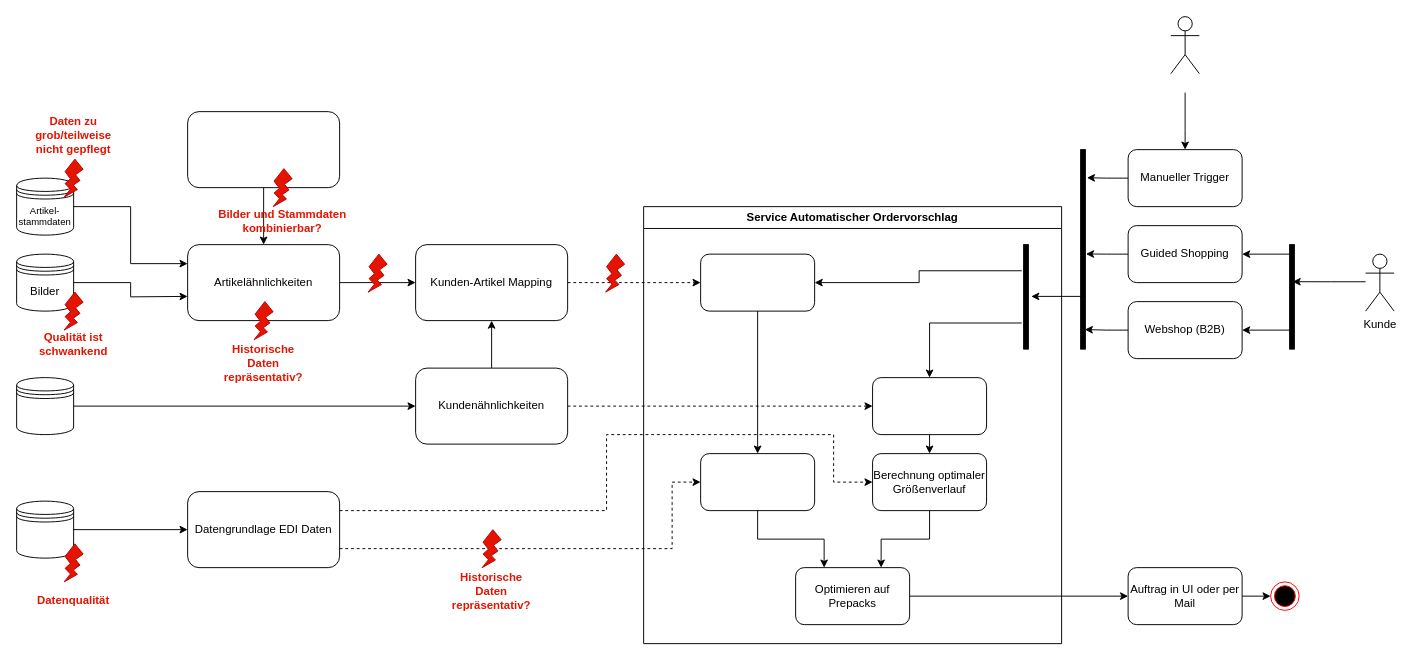
The diagram is 1413 pixels wide and 660 high, and some of its shapes have lost their labels. The shapes that lost their labels are listed below. From the top down, each one's box as (x1, y1, x2, y2) in pixels, then its label:
(1170, 16, 1199, 74): Vertrieb
(187, 111, 340, 188): Anbindung externer Datenquellen
(700, 253, 815, 311): Vorschlag Artikel
(16, 377, 74, 435): B2B Verkäufe
(872, 377, 987, 435): Gruppierung ähnlichster Kunden
(700, 453, 815, 511): Vorschlag Anzahl Paare pro Artikel
(16, 500, 74, 558): EDI (B2C Verkäufe)
